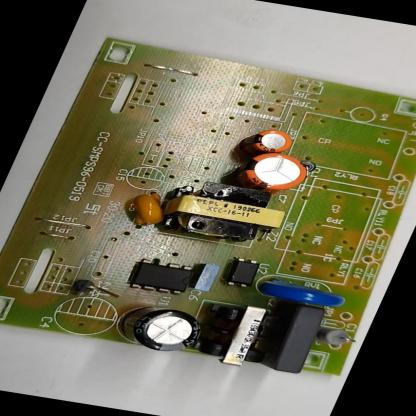Cap1: (239, 152, 314, 194)
Cap2: (236, 127, 297, 155)
Cap3: (118, 305, 206, 357)
MOSFET: (128, 260, 196, 296)
Mov: (256, 281, 348, 309)
Resistor: (316, 327, 359, 348)
Transformer: (158, 178, 296, 251), (194, 304, 282, 368)
